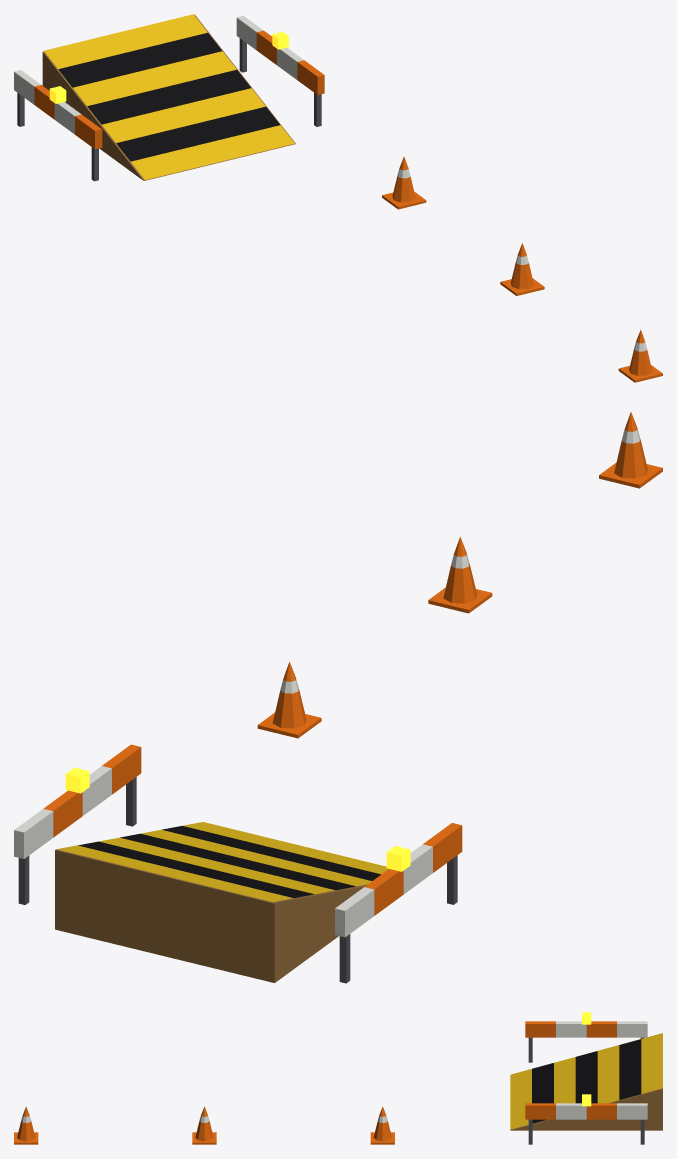
Rendered from ramp.glb.
3 views of the same model, one above another, from view 1: azimuth 30°, elevation 25°; view 2: azimuth 150°, elevation 25°; view 3: azimuth 270°, elevation 25° (orthographic). The views are drawn at different scales.
Parts seen in each view (by area): view 1: ramp; view 2: ramp; view 3: ramp.
Boxes of the visible parts, x1,y1,x2,y2 form: ramp: (14,14,662,382); ramp: (14,412,662,983); ramp: (14,1012,662,1144).
Size of the model in its own units: 3.98 by 1.03 by 12.74.
